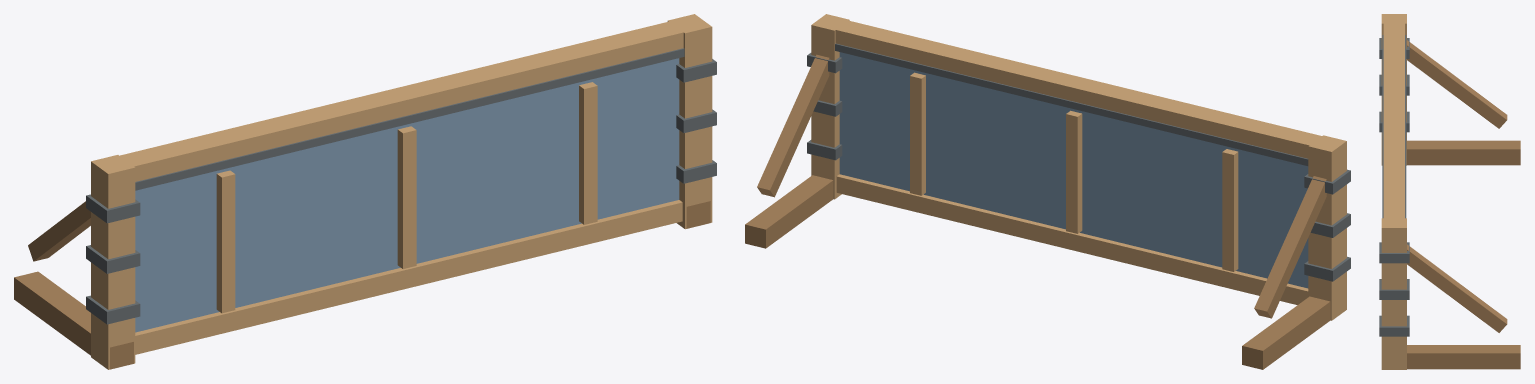
File: tilt-barrier-section.glb
3 renders of one model, left to right at view 1: azimuth 30°, elevation 25°; view 2: azimuth 150°, elevation 25°; view 3: azimuth 270°, elevation 25°, orthographic. The views are drawn at different scales.
Parts seen in each view (by area): view 1: tilt-barrier-section; view 2: tilt-barrier-section; view 3: tilt-barrier-section.
Boxes of the visible parts, bbox=[...] form: tilt-barrier-section: bbox=[14, 14, 716, 369]; tilt-barrier-section: bbox=[745, 14, 1350, 369]; tilt-barrier-section: bbox=[1379, 14, 1520, 369].
Size of the model in its own units: 4.04 by 1.24 by 1.12.
